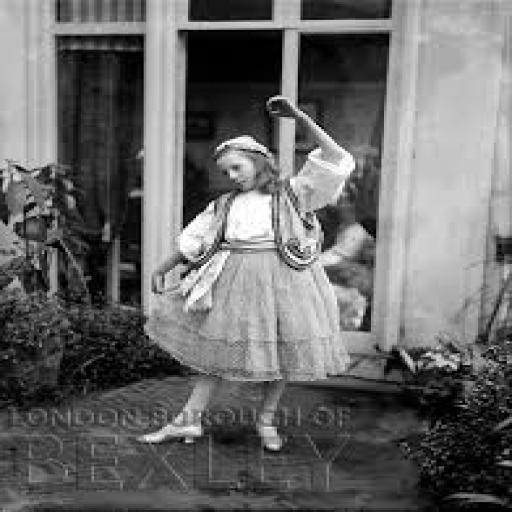dancing: (130, 94, 360, 454)
